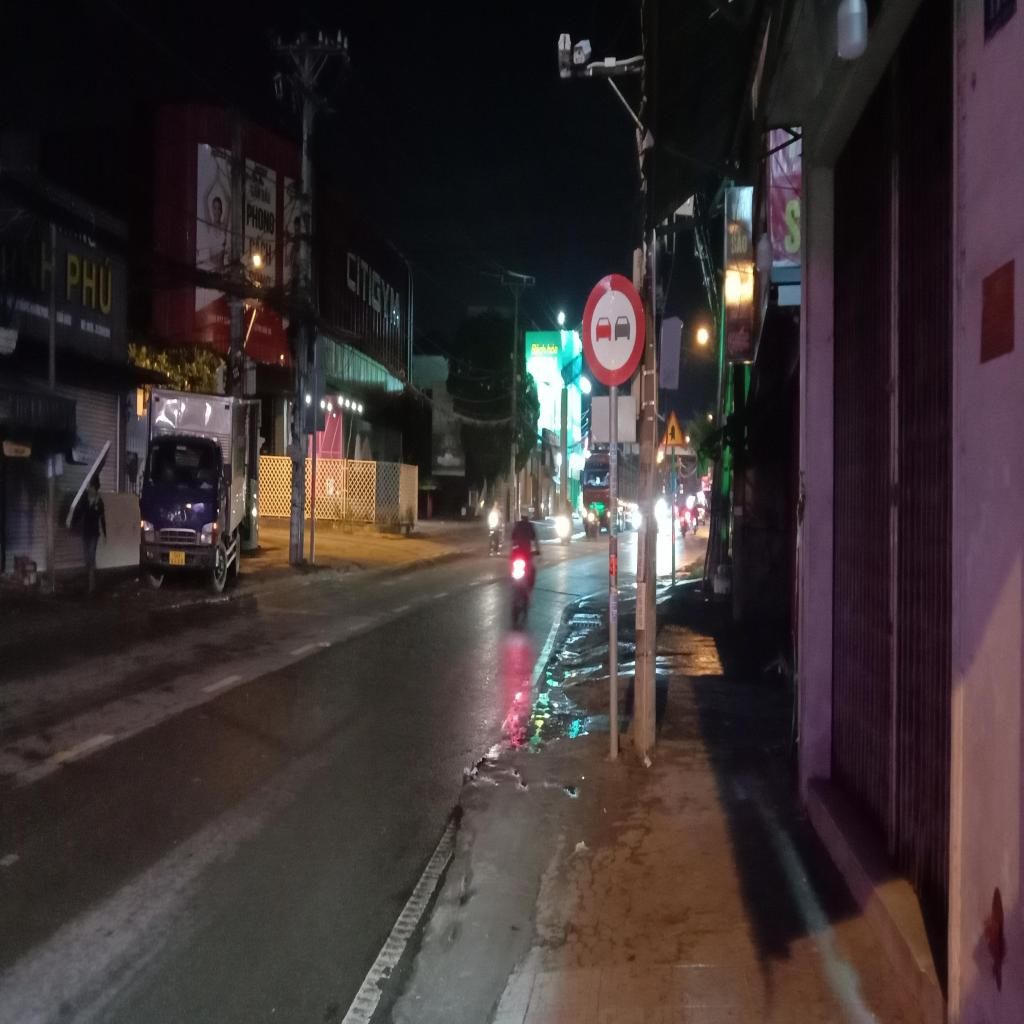cam_vuot: (582, 273, 645, 386)
giao_nhau_voi_duong_khong_uu_tien: (661, 409, 684, 447)
